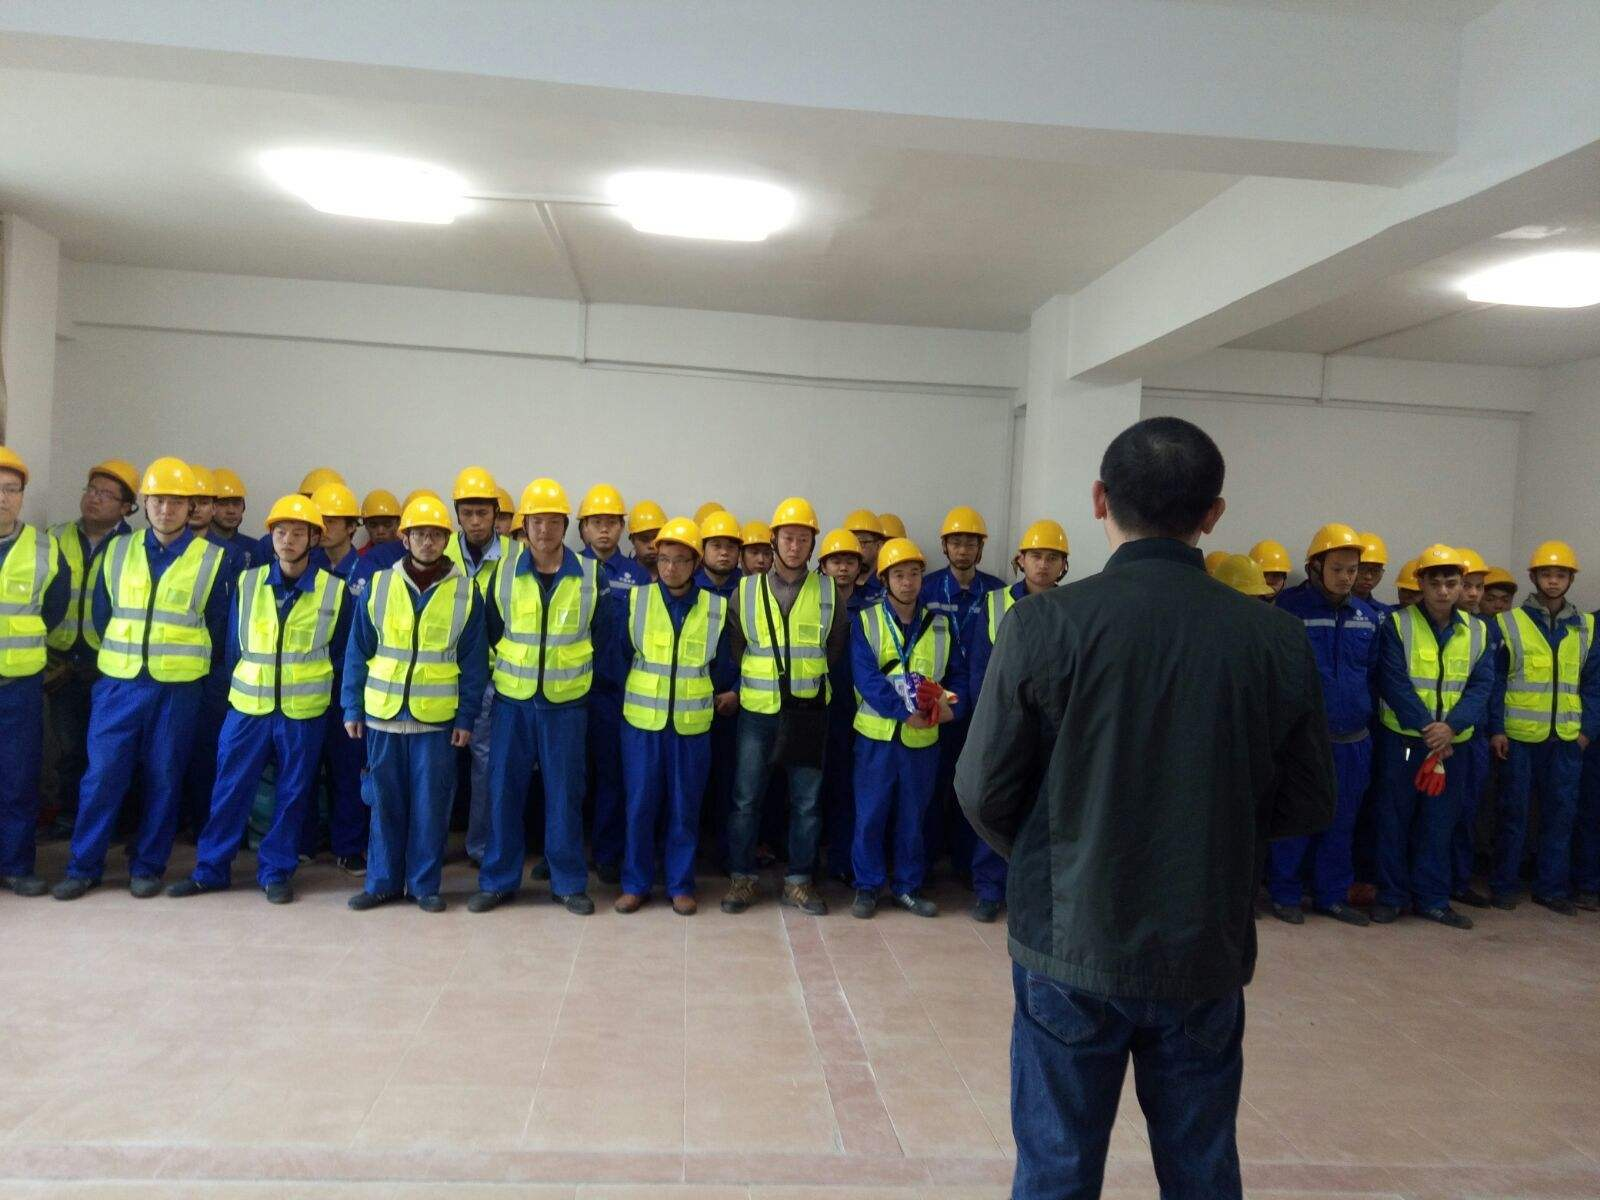head: (1086, 411, 1234, 550)
ordinary_clothes: (951, 538, 1337, 987)
person: (950, 413, 1338, 1199), (52, 454, 237, 903), (166, 493, 362, 907), (464, 474, 611, 922), (335, 490, 487, 919), (721, 493, 847, 916), (1366, 541, 1500, 932), (607, 512, 730, 920), (1268, 521, 1383, 927), (842, 534, 959, 919), (1491, 532, 1598, 916)
reflective_vest: (94, 525, 225, 685), (361, 561, 477, 725), (227, 564, 345, 722), (488, 549, 603, 708), (622, 580, 726, 736), (1379, 602, 1489, 745), (733, 568, 837, 716), (849, 601, 951, 748), (1495, 603, 1596, 744), (1, 525, 63, 680), (984, 580, 1017, 645)
safety_helmet: (137, 453, 200, 532), (263, 492, 326, 567), (516, 476, 574, 558), (75, 459, 143, 528), (397, 490, 457, 566), (768, 493, 821, 576), (1014, 517, 1075, 589), (449, 462, 502, 544), (1305, 522, 1365, 595), (1412, 541, 1468, 616), (308, 480, 363, 553), (874, 534, 930, 606), (653, 516, 704, 591), (576, 481, 626, 557), (938, 501, 990, 570), (1526, 541, 1584, 598), (1248, 533, 1294, 599), (816, 527, 866, 588), (701, 510, 745, 575), (626, 497, 668, 564), (211, 463, 249, 533), (360, 483, 402, 543), (187, 459, 221, 529), (737, 518, 776, 578), (1354, 528, 1390, 595), (1, 443, 29, 521), (1458, 545, 1489, 609), (1482, 565, 1516, 614)
